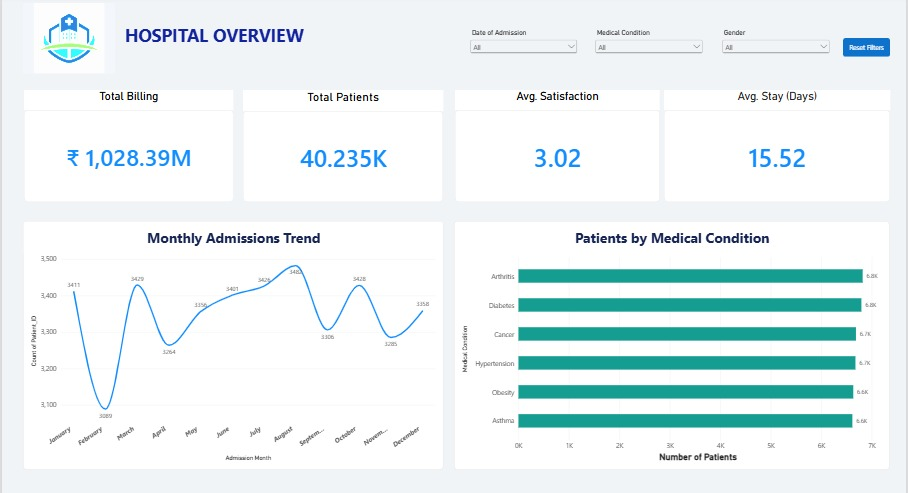

The page's visual inventory and layout, read from the dashboard file:
{"tool":"powerbi","page":{"name":"Hospital Overview","canvas":[1920,1080],"ordinal":0},"visuals":[{"type":"cardVisual","title":"Total Patients","fields":{"Data":["Count(Patient information.Patient_ID)"]},"box":[512.5,200,425.8,238.7],"z":0},{"type":"cardVisual","title":"Total Billing","fields":{"Data":["Sum(Billing and care.Billing Amount)"]},"box":[47.5,200,445.2,238.7],"z":1},{"type":"cardVisual","title":"Avg. Satisfaction","fields":{"Data":["Avg(Billing and care.Patient Satisfection)"]},"box":[962.5,200,435.5,238.7],"z":2},{"type":"cardVisual","title":"Avg. Stay (Days)","fields":{"Data":["Avg(Billing and care.Length of Stay (Days))"]},"box":[1407.5,200,480.6,238.7],"z":3},{"type":"textbox","box":[240.6,56.5,425.2,65.9],"z":4},{"type":"lineChart","title":"Monthly Admissions Trend","fields":{"Category":["Addmission details.Admission Month"],"Y":["Count(Addmission details.Patient_ID)"]},"box":[45.2,477.4,893.5,529],"z":5},{"type":"clusteredBarChart","title":"Patients by Medical Condition","fields":{"Category":["Patient information.Medical Condition"],"Y":["Count(Patient information.Patient_ID)"]},"box":[961.3,477.4,925.8,529],"z":6},{"type":"slicer","fields":{"Values":["Addmission details.Date of Admission"]},"box":[990,70,237.4,79.1],"z":7},{"type":"slicer","fields":{"Values":["Patient information.Medical Condition"]},"box":[1257.5,70,238,80],"z":8},{"type":"slicer","fields":{"Values":["Patient information.Gender"]},"box":[1527.5,70,238,80],"z":9},{"type":"actionButton","box":[1787.5,90,100,40],"z":10},{"type":"image","box":[44.9,14.5,195,150],"z":11}]}

Visuals, with their boxes on the page's 1920x1080 design canvas (x1, y1, x2, y2). These are canvas units, not pixel positions in the 908x493 screenshot, which may show the page scaled, cropped or inside an application window:
"Total Patients" cardVisual: [512,200,938,439]
"Total Billing" cardVisual: [48,200,493,439]
"Avg. Satisfaction" cardVisual: [962,200,1398,439]
"Avg. Stay (Days)" cardVisual: [1408,200,1888,439]
textbox: [241,56,666,122]
"Monthly Admissions Trend" lineChart: [45,477,939,1006]
"Patients by Medical Condition" clusteredBarChart: [961,477,1887,1006]
slicer - Addmission details.Date of Admission: [990,70,1227,149]
slicer - Patient information.Medical Condition: [1258,70,1496,150]
slicer - Patient information.Gender: [1528,70,1766,150]
actionButton: [1788,90,1888,130]
image: [45,14,240,164]
